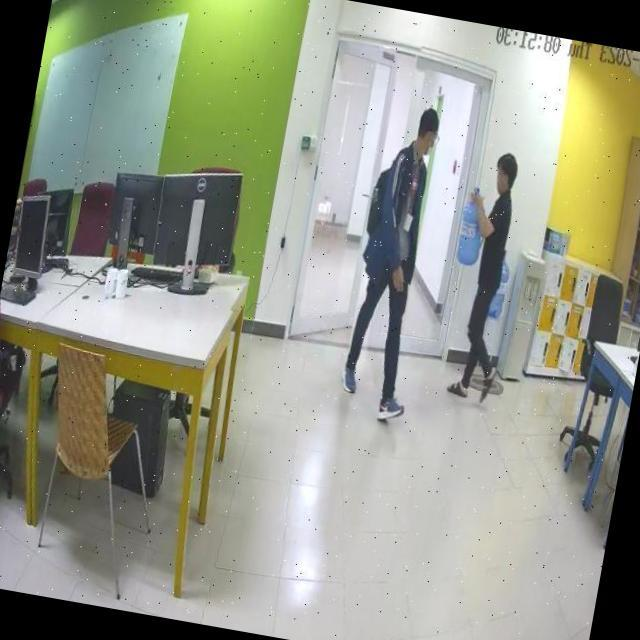person: (335, 94, 450, 423), (446, 149, 529, 402)
